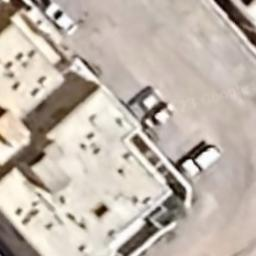SUV: (180, 144, 223, 180)
sedan: (42, 4, 78, 36), (127, 88, 163, 118), (142, 104, 176, 128)
